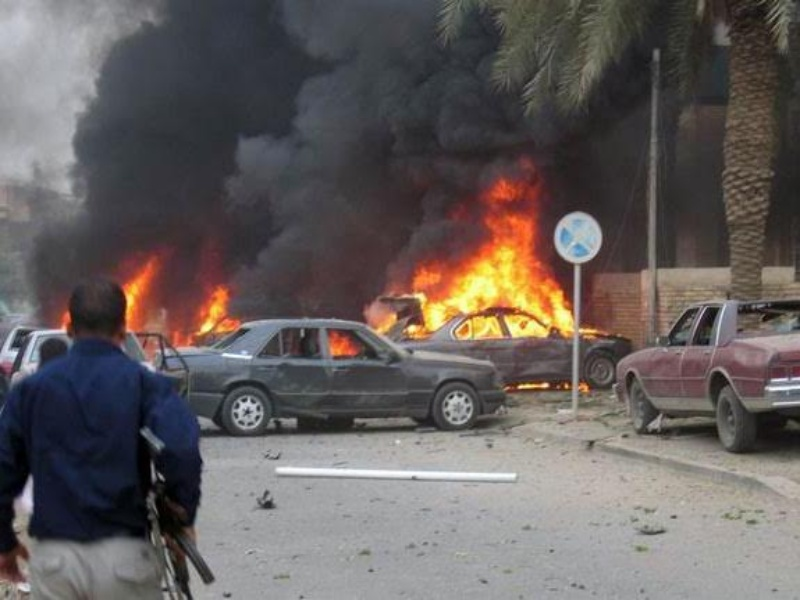smoke: (94, 6, 459, 274)
